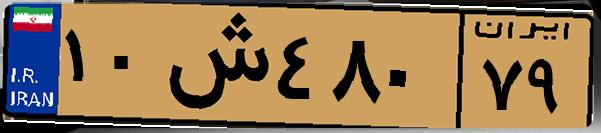0: (385, 28, 445, 110), (110, 28, 158, 98)
1: (57, 26, 110, 100)
4: (270, 28, 330, 110)
7: (475, 38, 525, 113)
8: (330, 28, 385, 110)
9: (525, 38, 570, 115)
ش: (158, 12, 270, 120)
